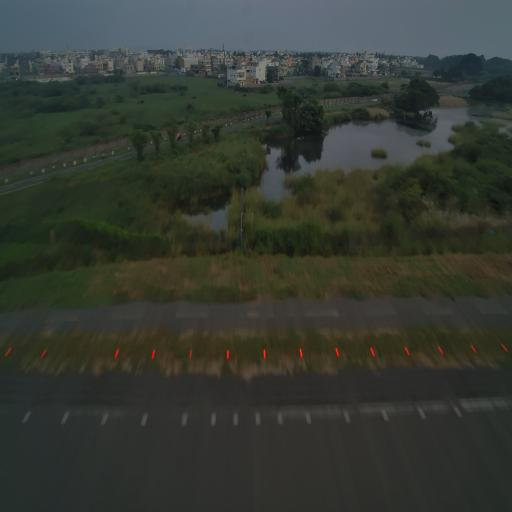off: (339, 402, 353, 430), (378, 404, 394, 428), (272, 405, 287, 430), (450, 399, 464, 425), (302, 405, 314, 432), (59, 406, 74, 427), (20, 404, 33, 428), (416, 398, 428, 422), (137, 410, 151, 430), (98, 409, 112, 428), (251, 406, 262, 428), (230, 408, 240, 432), (207, 410, 219, 429), (180, 408, 190, 428)
on: (1, 334, 15, 366), (109, 338, 122, 366), (434, 340, 447, 360), (295, 342, 306, 365), (468, 338, 479, 360), (500, 339, 511, 360), (258, 345, 270, 364), (333, 344, 343, 366), (401, 340, 412, 360), (38, 344, 48, 364), (367, 342, 377, 362), (148, 344, 157, 366), (188, 339, 195, 364), (225, 342, 232, 363)
